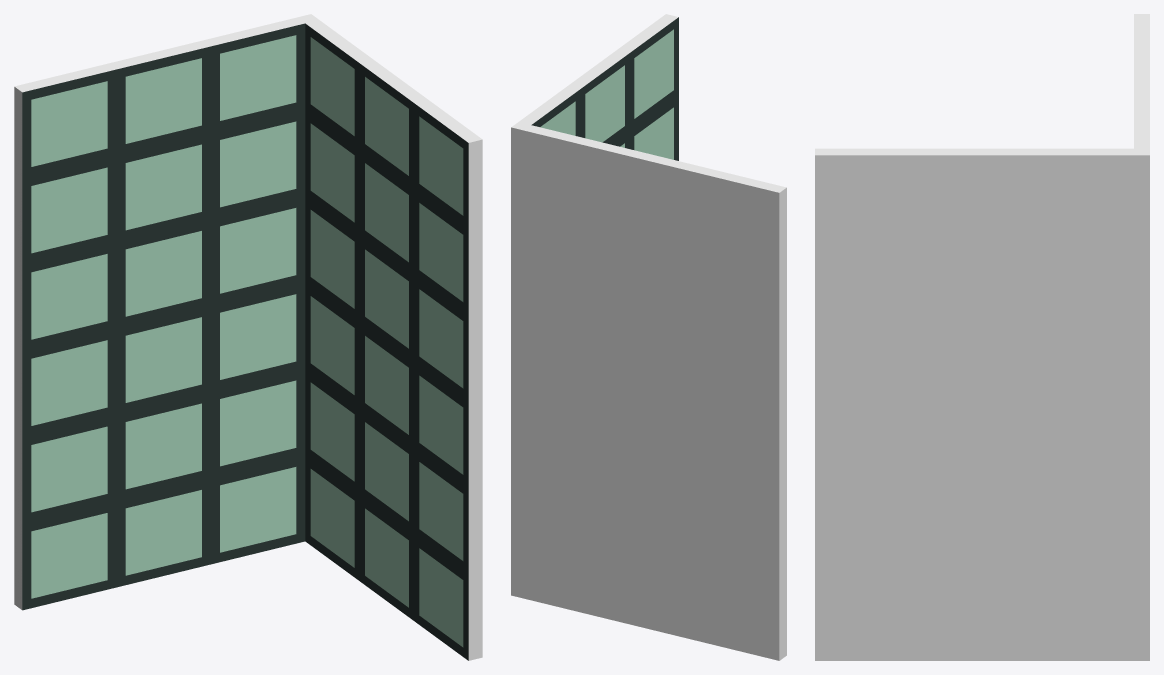
File: Prop_WallCornor_06.fbx
The picture shows the model from 3 angles, left to right: view 1: azimuth 30°, elevation 25°; view 2: azimuth 150°, elevation 25°; view 3: azimuth 270°, elevation 25°; orthographic projection. The views are drawn at different scales.
Parts seen in each view (by area): view 1: Prop_WallCornor_06; view 2: Prop_WallCornor_06; view 3: Prop_WallCornor_06.
Part boxes in pixels (x1=…): Prop_WallCornor_06: x1=14, y1=14, x2=482, y2=660; Prop_WallCornor_06: x1=511, y1=14, x2=786, y2=660; Prop_WallCornor_06: x1=815, y1=14, x2=1149, y2=660.
Size of the model in its own units: 210 by 350 by 210.
